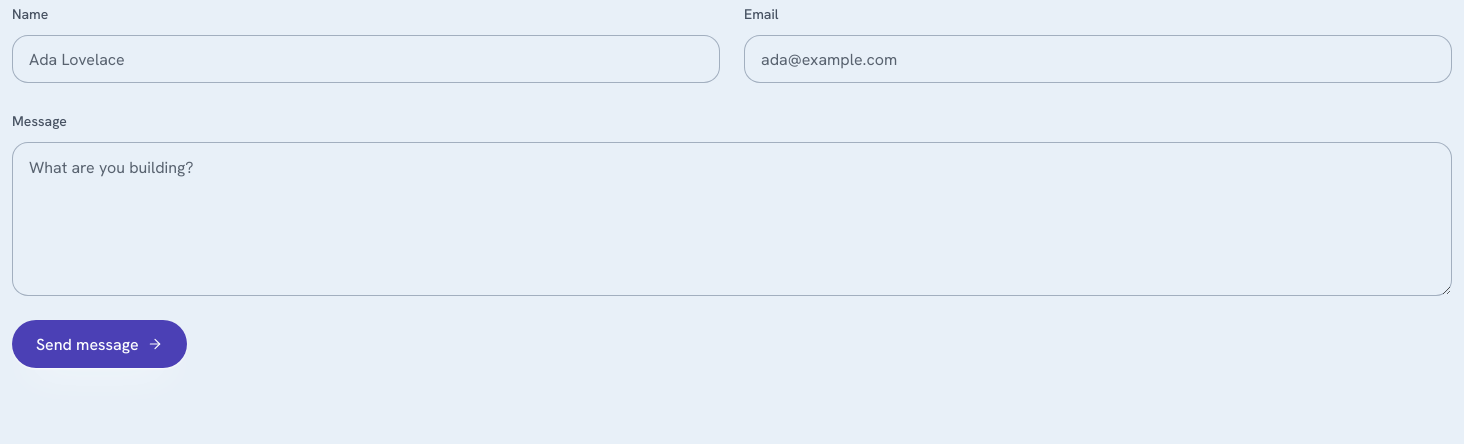
Test: ContactForm › reports validation errors instead of submitting empty
This screenshot has width=1464, height=444.
What coordinates should you click on to do the following:
click the button "Send message"
I would click on:
 (99, 344)
Its box is x1=12 y1=320 x2=186 y2=368.
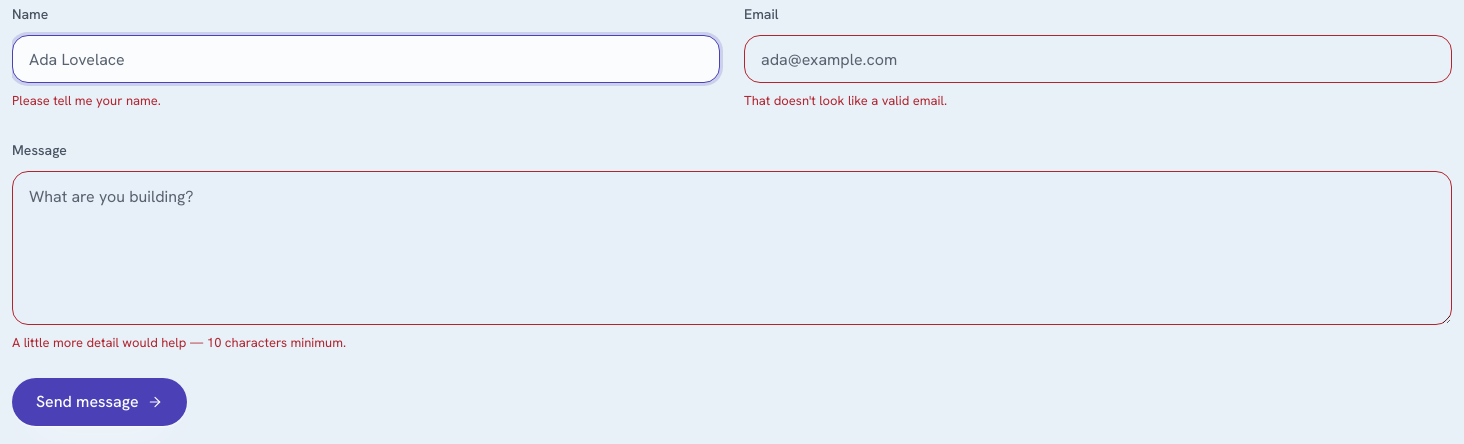
Now the field labelled "Name" is marked as invalid, box x1=12 y1=35 x2=720 y2=83
